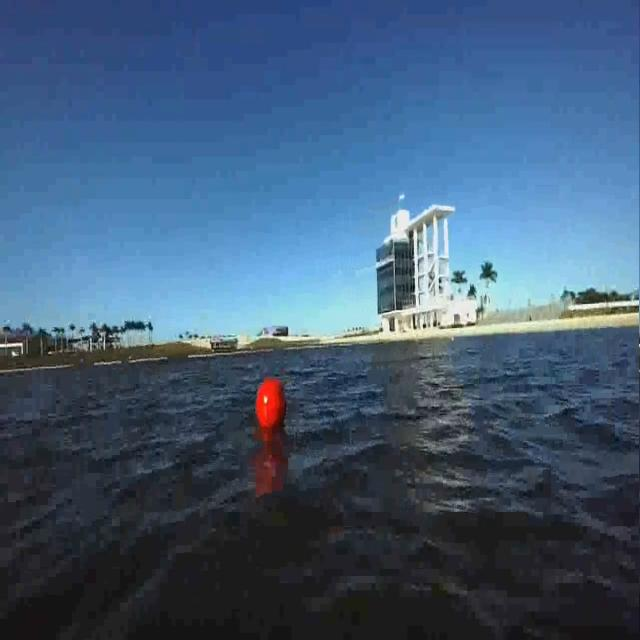red-buoy: (256, 378, 288, 433)
